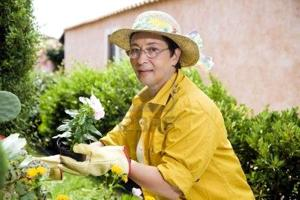person: (33, 10, 256, 199)
